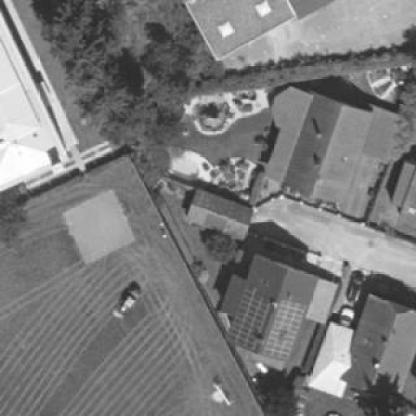solar-pv-panel: (229, 284, 272, 351), (263, 298, 306, 361)
